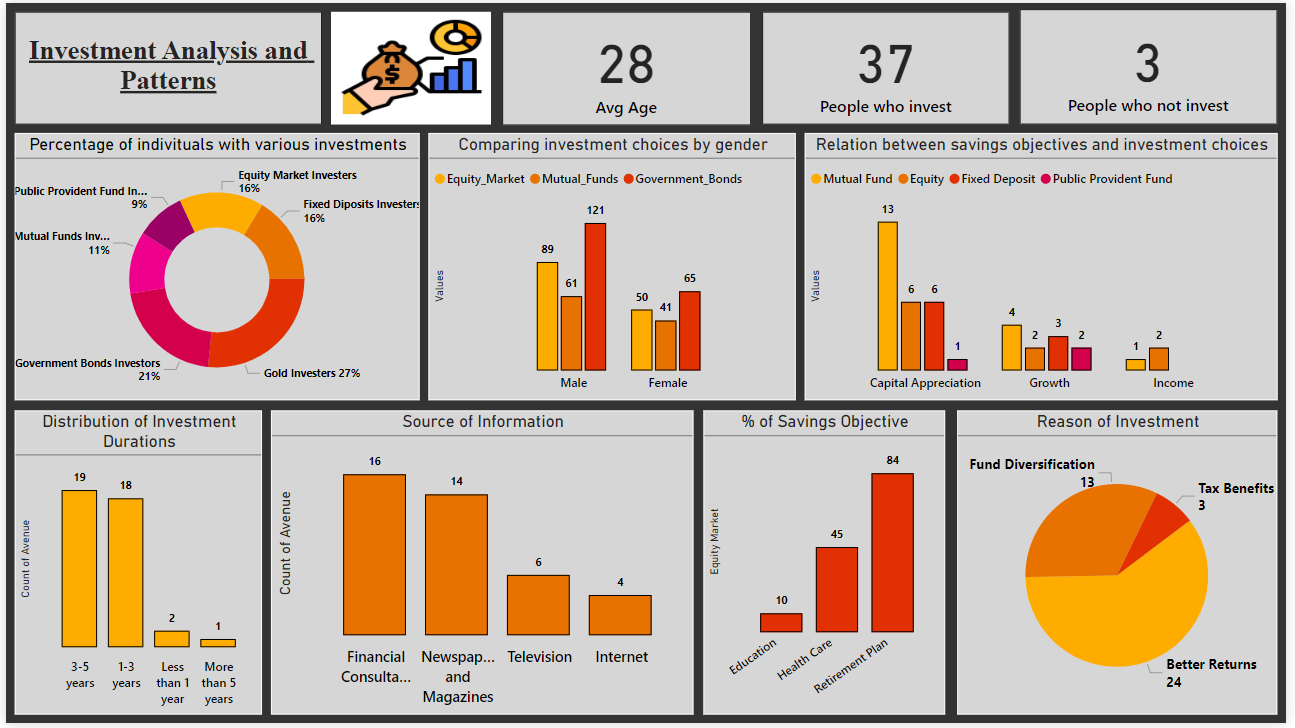

What the dashboard file says about the page in this screenshot:
{"tool":"powerbi","page":{"name":"Task 7","canvas":[1280,720],"ordinal":6},"visuals":[{"type":"donutChart","title":"Percentage of indivituals with various investments","fields":{"Y":["Data_set 2.Equity Market Investers","Data_set 2.Fixed Diposits Investers","Data_set 2.Gold Investers","Data_set 2.Government Bonds Investors","Data_set 2.Mutual Funds Investors","Data_set 2.Public Provident Fund Investors"]},"box":[8.8,130,405,267.5],"z":0},{"type":"clusteredColumnChart","title":"Comparing investment choices by gender","fields":{"Category":["Data_set 2.gender"],"Y":["Sum(Data_set 2.Equity_Market)","Sum(Data_set 2.Mutual_Funds)","Sum(Data_set 2.Government_Bonds)"]},"box":[422.5,130,367.5,267.5],"z":1000},{"type":"clusteredColumnChart","title":"Relation between savings objectives and investment choices","fields":{"Category":["Data_set 2.Objective"],"Y":["Data_set 2.count Mutual Fund","Data_set 2.Count Equity","Data_set 2.Count Fixed Deposit","Data_set 2.count ppf"]},"box":[798.8,130,472.5,267.5],"z":2000},{"type":"columnChart","title":"Distribution of Investment Durations","fields":{"Category":["Data_set 2.Duration"],"Y":["CountNonNull(Data_set 2.Avenue)"]},"box":[8.8,407.5,247.5,303.8],"z":3000},{"type":"columnChart","title":"Source of Information","fields":{"Y":["CountNonNull(Data_set 2.Avenue)"],"Category":["Data_set 2.Source"]},"box":[265,407.5,422.5,303.8],"z":4000},{"type":"clusteredColumnChart","title":"% of Savings Objective","fields":{"Category":["Data_set 2.What are your savings objectives?"],"Y":["Sum(Data_set 2.Equity_Market)"]},"box":[697.5,407.5,241.2,303.8],"z":5000},{"type":"pieChart","title":"Reason of Investment","fields":{"Category":["Data_set 2.Reason_Mutual"],"Y":["CountNonNull(Data_set 2.Invest_Monitor)"]},"box":[951.2,407.5,320,303.8],"z":6000},{"type":"card","fields":{"Values":["Data_set 2.Avg Age"]},"box":[496.2,8.8,248.8,113.8],"z":7000},{"type":"card","fields":{"Values":["Data_set 2.People who invest"]},"box":[756.2,8.8,247.5,112.5],"z":8000},{"type":"card","fields":{"Values":["Data_set 2.People who not invest"]},"box":[1013.8,6.2,257.5,115],"z":9000},{"type":"textbox","box":[8.8,8.8,307.5,112.5],"z":10000},{"type":"image","box":[325,8.8,160,112.5],"z":10001}]}

Visuals, with their boxes in screenshot pixels (x1, y1, x2, y2), scaled from the page's 1280x720 canvas onto the 1295x728 screenshot:
"Percentage of indivituals with various investments" donutChart: BBox(9, 131, 419, 402)
"Comparing investment choices by gender" clusteredColumnChart: BBox(427, 131, 799, 402)
"Relation between savings objectives and investment choices" clusteredColumnChart: BBox(808, 131, 1286, 402)
"Distribution of Investment Durations" columnChart: BBox(9, 412, 259, 719)
"Source of Information" columnChart: BBox(268, 412, 696, 719)
"% of Savings Objective" clusteredColumnChart: BBox(706, 412, 950, 719)
"Reason of Investment" pieChart: BBox(962, 412, 1286, 719)
card - Data_set 2.Avg Age: BBox(502, 9, 754, 124)
card - Data_set 2.People who invest: BBox(765, 9, 1015, 123)
card - Data_set 2.People who not invest: BBox(1026, 6, 1286, 123)
textbox: BBox(9, 9, 320, 123)
image: BBox(329, 9, 491, 123)
